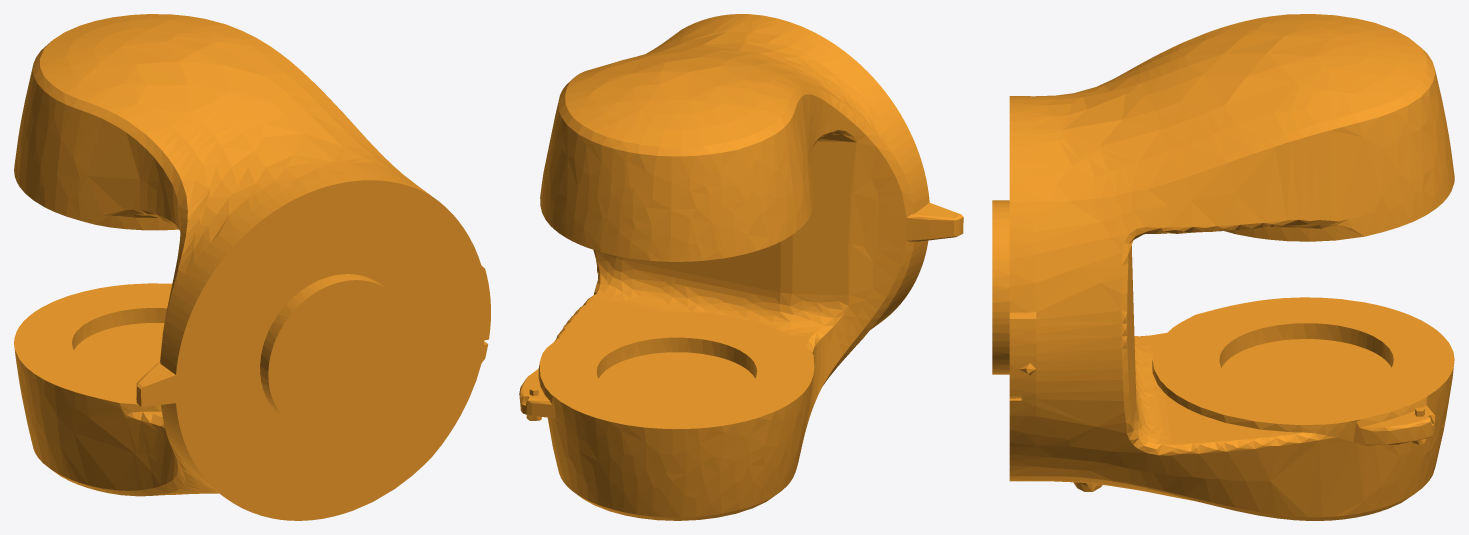
The model's file is KukaKR10Link1.dae.
The picture shows the model from 3 angles, left to right: view 1: azimuth 30°, elevation 25°; view 2: azimuth 150°, elevation 25°; view 3: azimuth 270°, elevation 25°; orthographic projection. The views are drawn at different scales.
Visible parts, largest first — view 1: KR10Link1; view 2: KR10Link1; view 3: KR10Link1.
Boxes of the visible parts, left/top/right/bottom form: KR10Link1: left=14, top=14, right=490, bottom=520; KR10Link1: left=519, top=14, right=963, bottom=520; KR10Link1: left=992, top=14, right=1454, bottom=520.
Size of the model in its own units: 0.2464 by 0.2653 by 0.2729.
